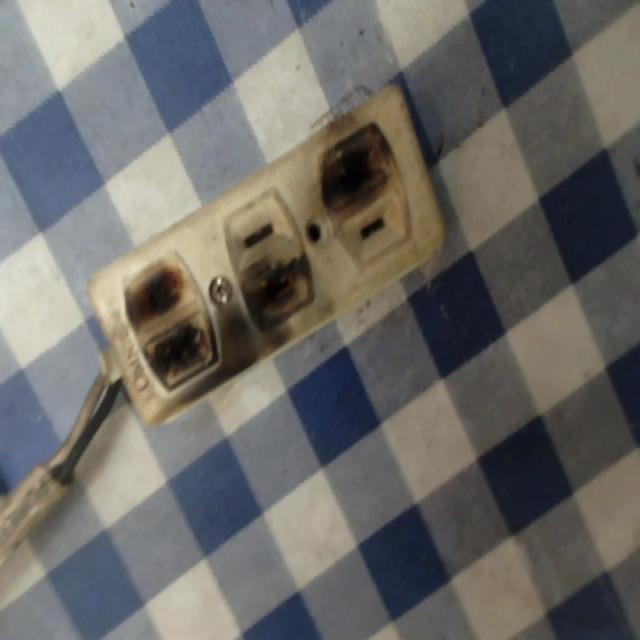-: (117, 245, 222, 407), (302, 104, 405, 221), (237, 263, 323, 332)
